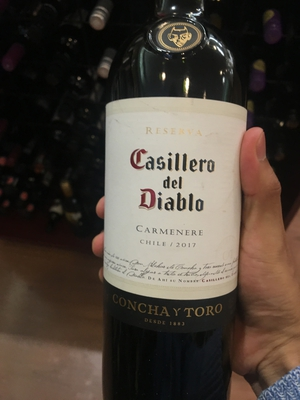casillero del diablo carmenere: (90, 13, 252, 400)
